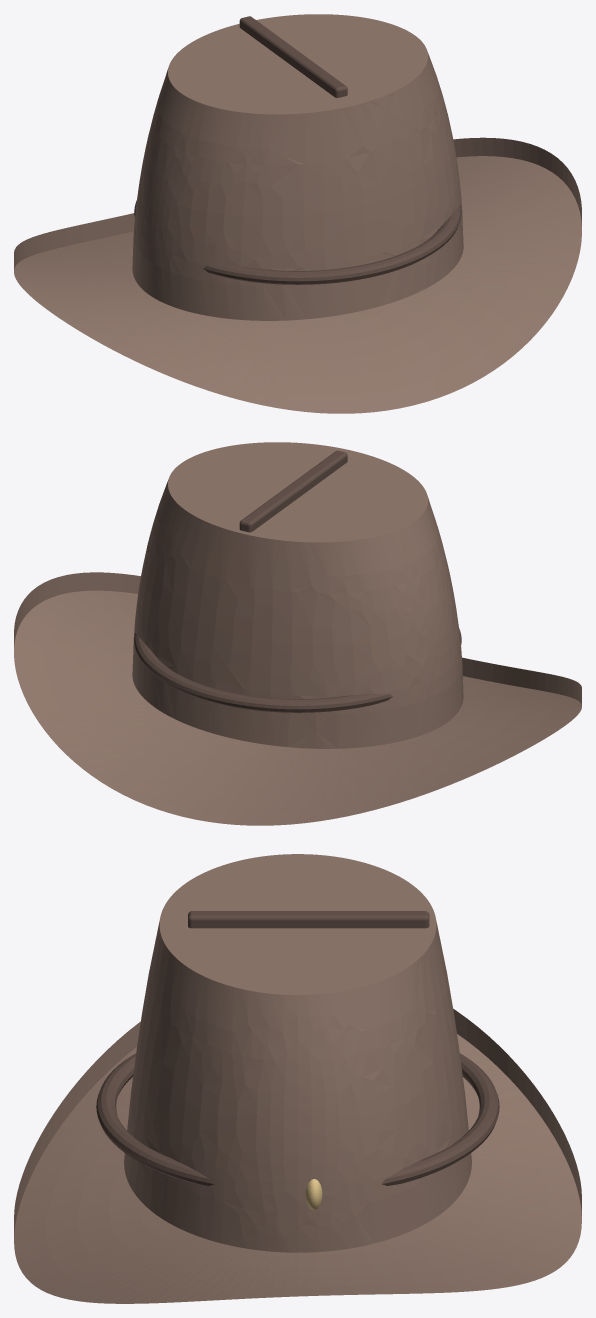
File: w25-dark-brown-ranch-cowboy-hat.glb
The picture shows the model from 3 angles, top to bottom: view 1: azimuth 30°, elevation 25°; view 2: azimuth 150°, elevation 25°; view 3: azimuth 270°, elevation 25°; orthographic projection. The views are drawn at different scales.
Parts seen in each view (by area): view 1: tapered_crown, curved_felt_brim, leather_band, top_crease; view 2: tapered_crown, curved_felt_brim, leather_band, top_crease; view 3: tapered_crown, curved_felt_brim, leather_band, top_crease.
Boxes of the visible parts, box(x1,y1,x2,y2) form: tapered_crown: box(132, 14, 463, 320); curved_felt_brim: box(14, 137, 581, 413); leather_band: box(134, 200, 461, 284); top_crease: box(239, 16, 347, 97); tapered_crown: box(132, 442, 463, 748); curved_felt_brim: box(14, 572, 581, 825); leather_band: box(134, 628, 461, 712); top_crease: box(239, 450, 347, 532); tapered_crown: box(124, 854, 471, 1252); curved_felt_brim: box(14, 1009, 581, 1303); leather_band: box(96, 1053, 499, 1185); top_crease: box(188, 911, 429, 928).
Bounding box in the file's own units: 1.04 × 0.509 × 0.8.
